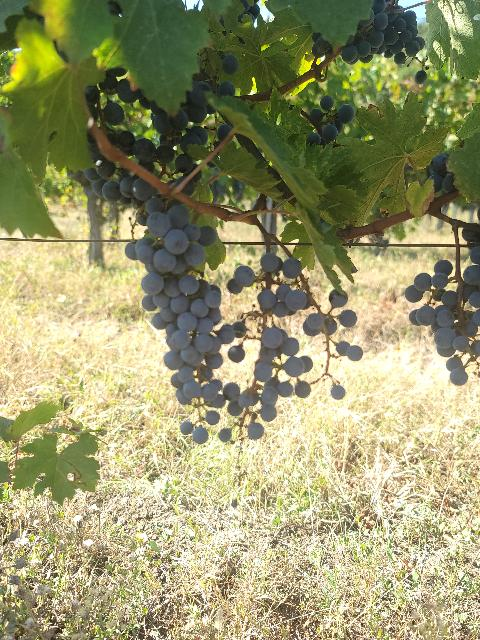grapes: (240, 252, 362, 438), (135, 198, 222, 404), (405, 260, 480, 385), (341, 0, 425, 65)
